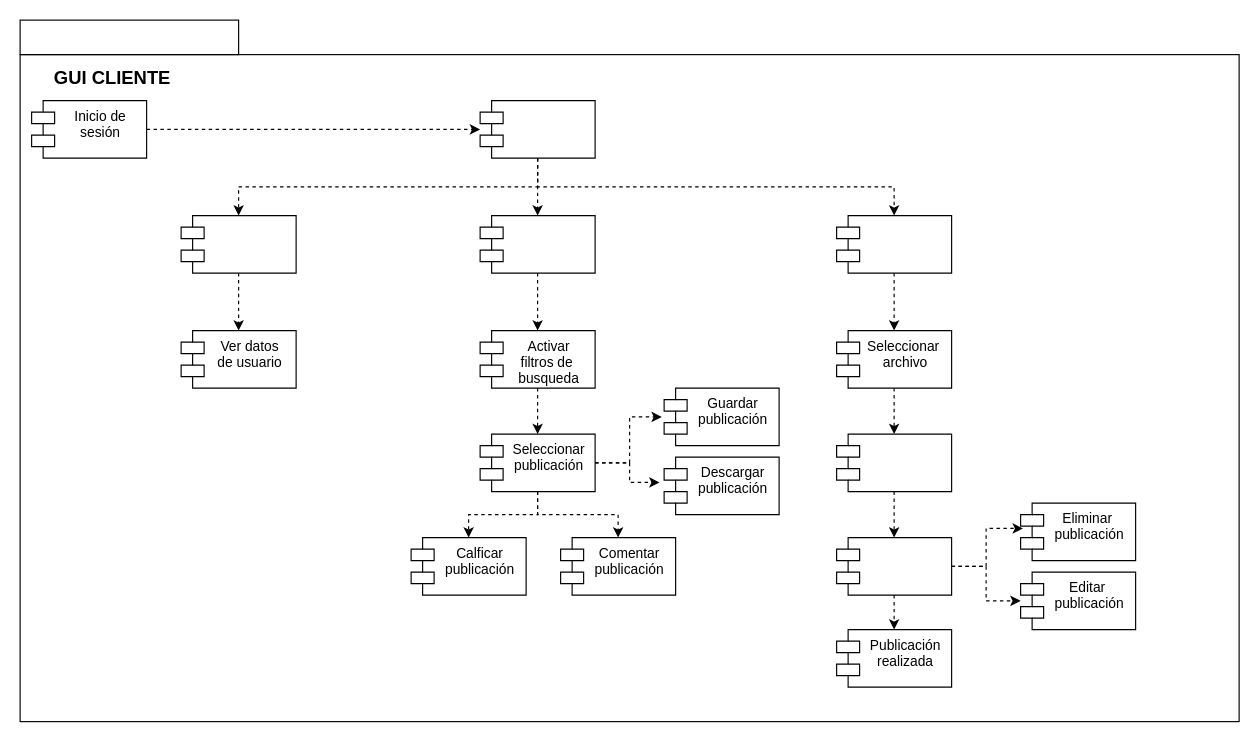
This 1259x742 diagram has some shape labels left out. Each missing label, with the centre of its shape:
Agregar datos de publicación: pixel 893 462
Buscar archvios: pixel 537 243
Crear publicación: pixel 893 243
Perfil: pixel 238 243
Página principal: pixel 537 128
Subir publicación: pixel 893 565
